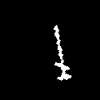double_crochet: (54, 25, 70, 79)
